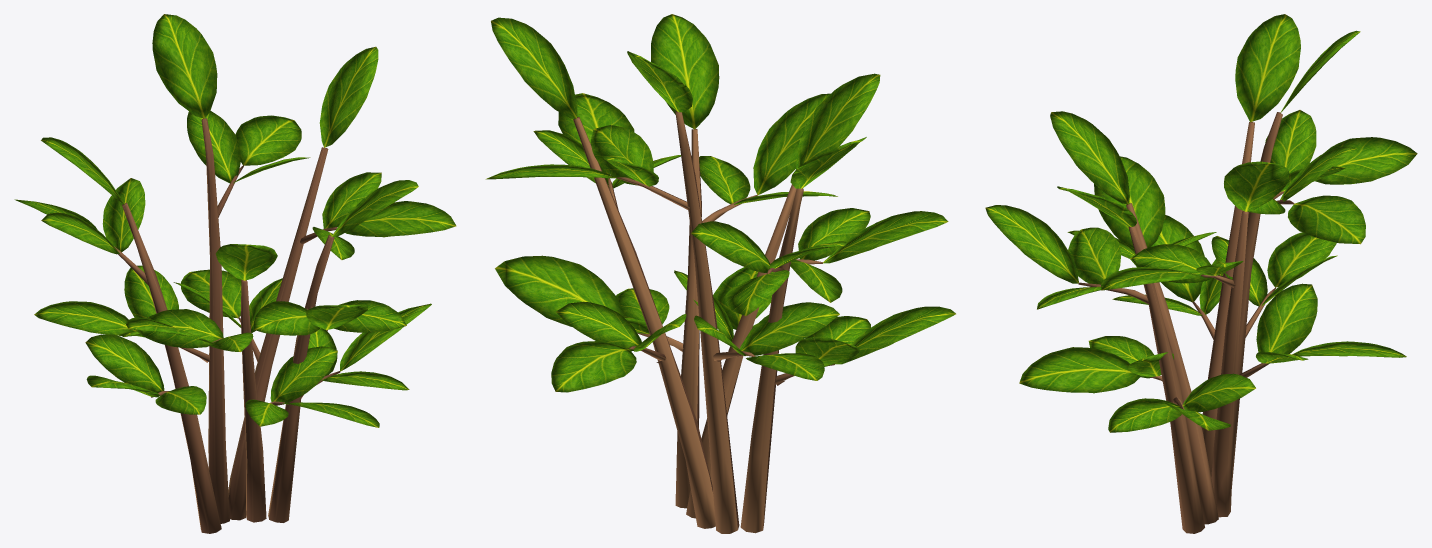
The model's file is NP_Raspberry_Young_LOD1.fbx.
The picture shows the model from 3 angles, left to right: view 1: azimuth 30°, elevation 25°; view 2: azimuth 150°, elevation 25°; view 3: azimuth 270°, elevation 25°; orthographic projection. The views are drawn at different scales.
Visible parts, largest first — view 1: NP_Raspberry_Young; view 2: NP_Raspberry_Young; view 3: NP_Raspberry_Young.
Part boxes in pixels (box(x1,y1,x2,y2)): NP_Raspberry_Young: box(14, 14, 456, 533); NP_Raspberry_Young: box(485, 14, 955, 533); NP_Raspberry_Young: box(985, 14, 1417, 533).
Bounding box in the file's own units: 45.53 × 53.68 × 43.82.
